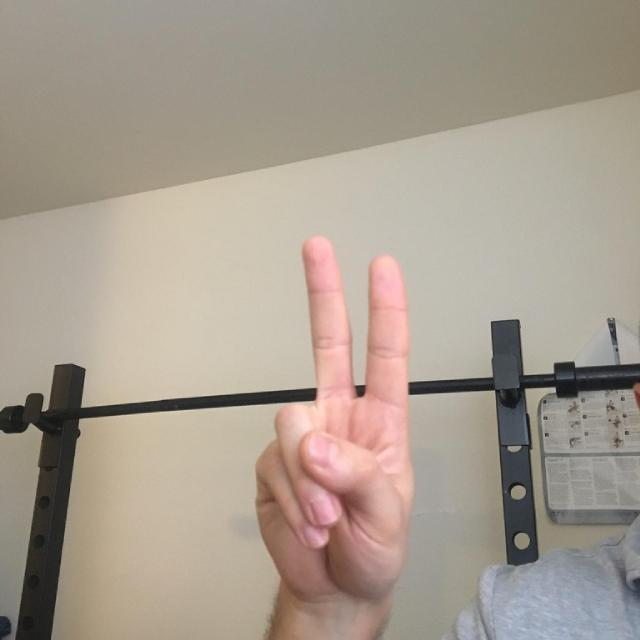V: (217, 209, 486, 632)
